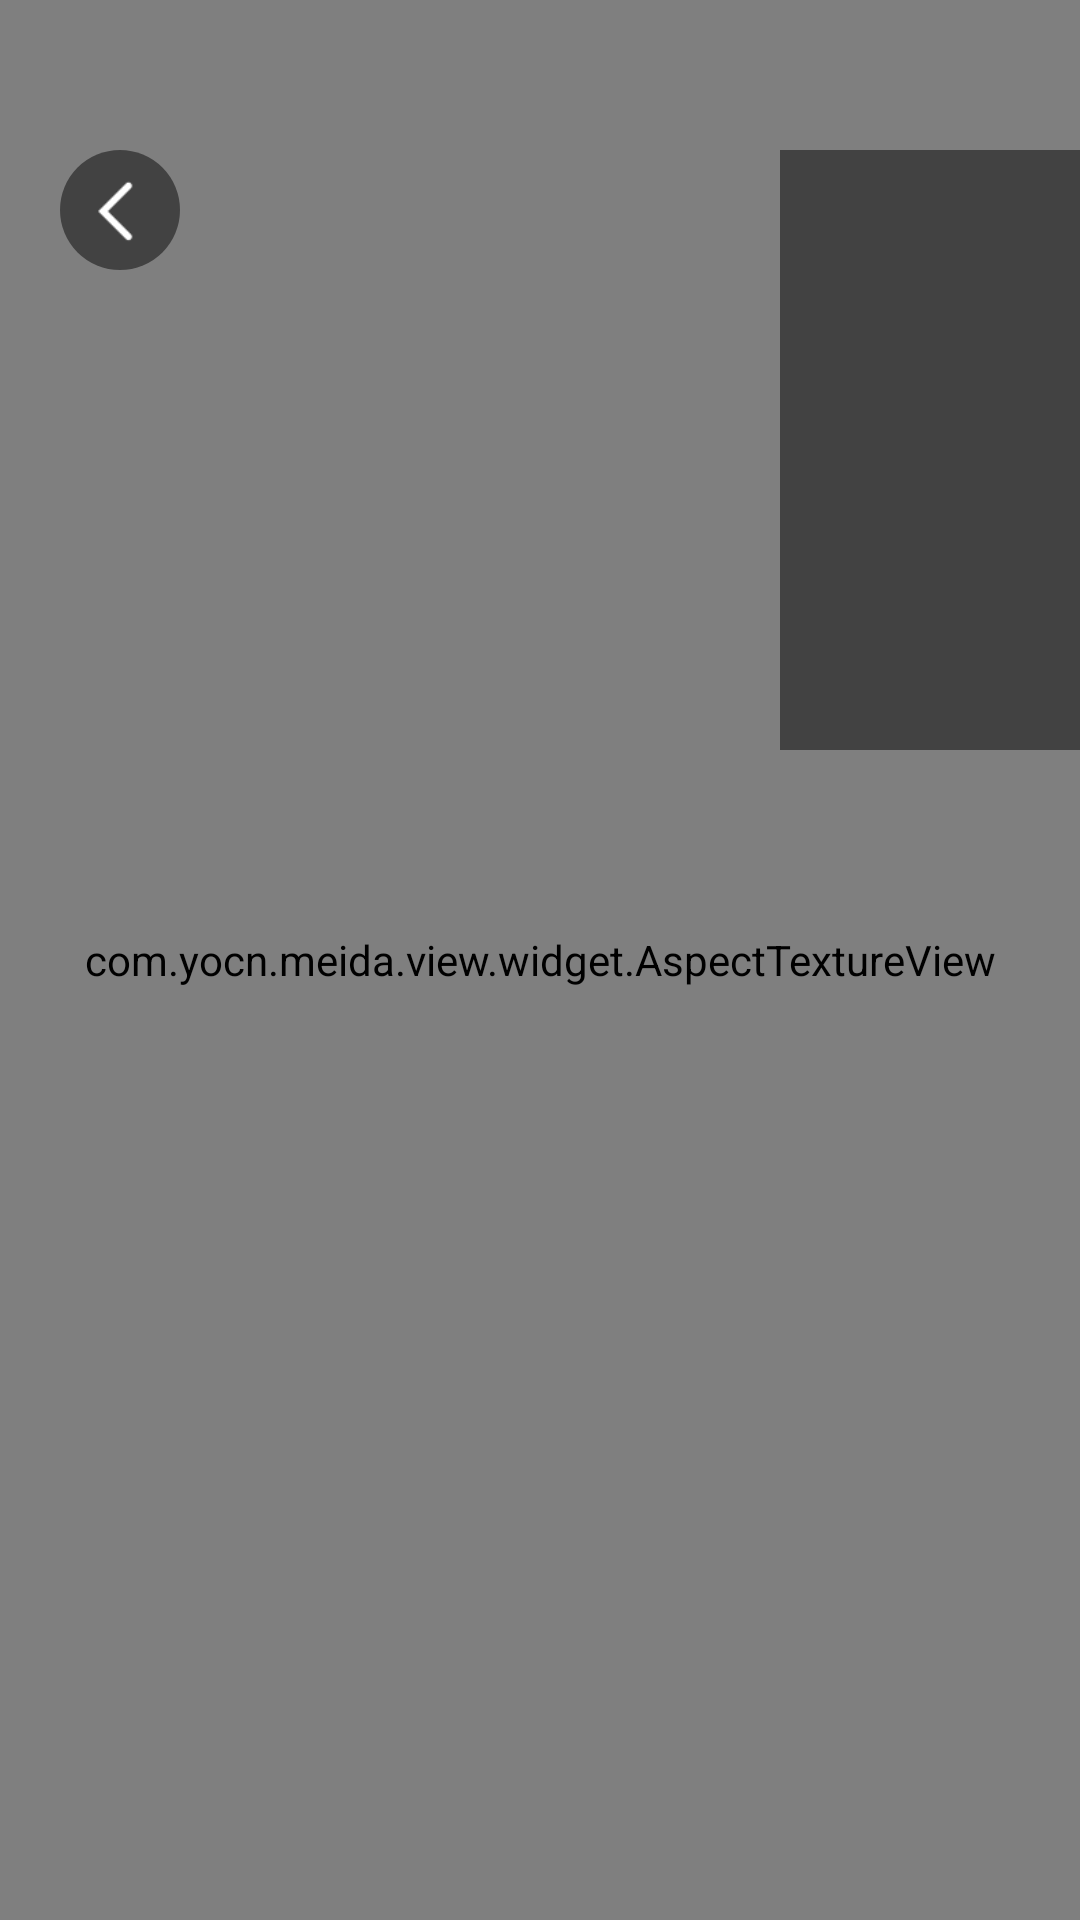

Named icons in this screenshot (1080×1920) and their bounding boxes, (x1, y1, x2, y2):
back: (60, 150, 180, 270)
